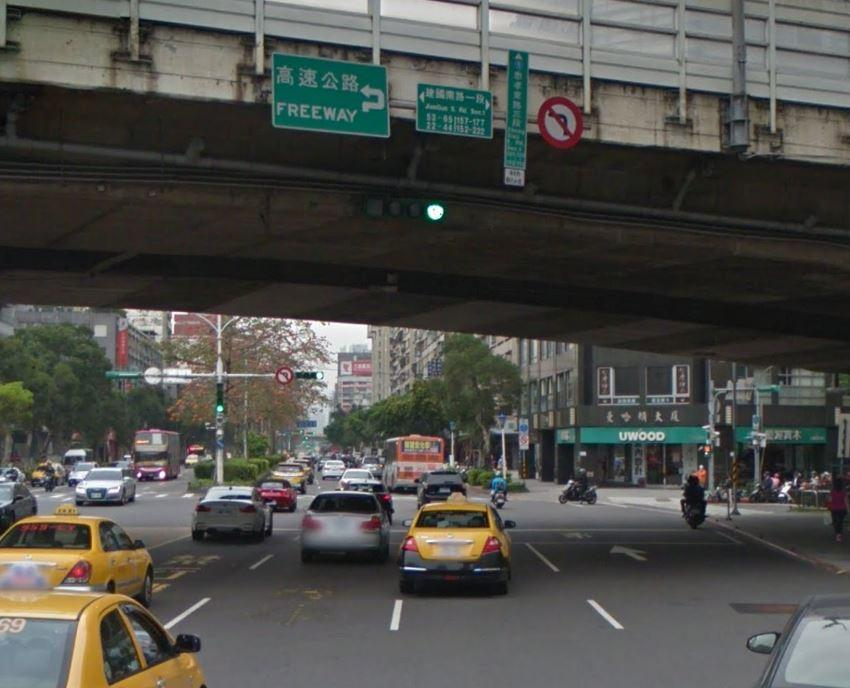green_traffic_light: (361, 193, 447, 222)
no_left_turn: (535, 96, 584, 147)
